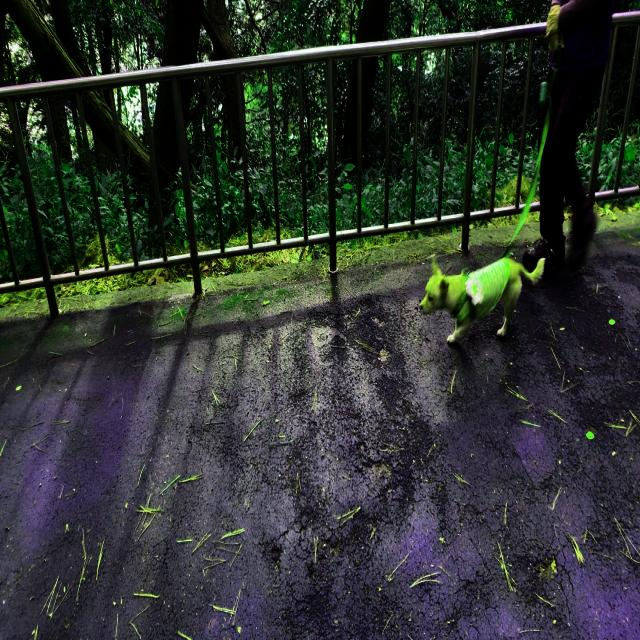Leashed_Dog: (420, 31, 565, 347)
